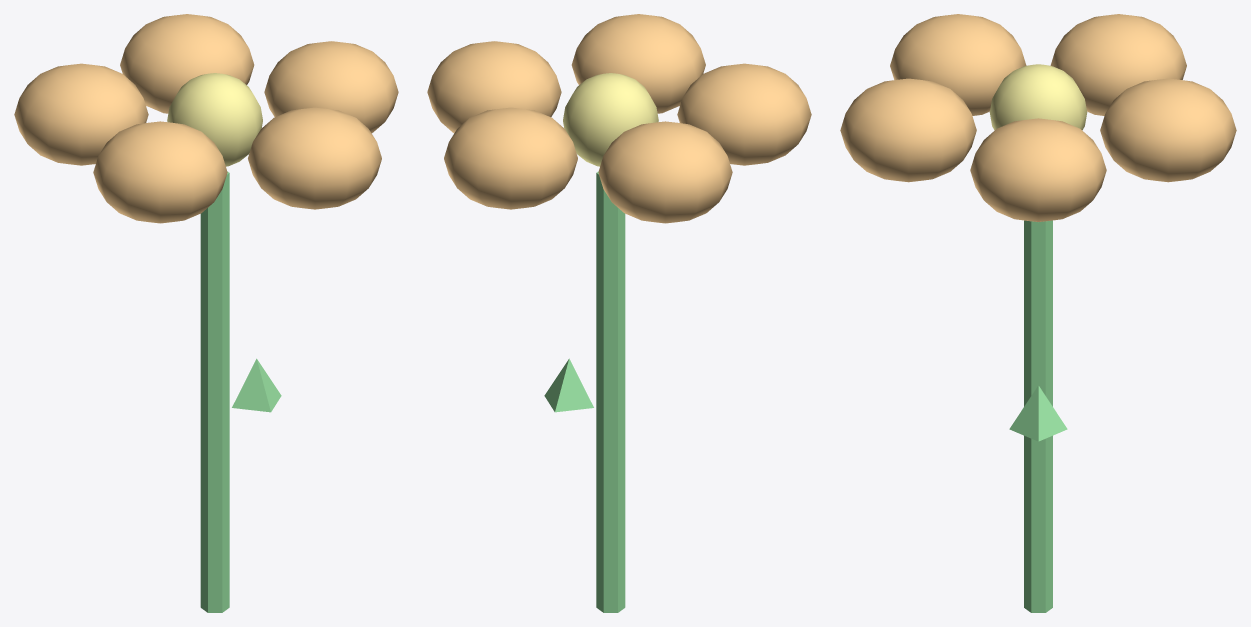
The model's file is flower_3.glb.
The picture shows the model from 3 angles, left to right: view 1: azimuth 30°, elevation 25°; view 2: azimuth 150°, elevation 25°; view 3: azimuth 270°, elevation 25°; orthographic projection.
Visible parts, largest first — view 1: stem, petal_4, petal_3, petal_2, petal_0, petal_1, center, leaf; view 2: stem, petal_1, petal_2, petal_3, petal_0, petal_4, center, leaf; view 3: petal_1, petal_4, petal_0, stem, petal_3, petal_2, center, leaf.
Part boxes in pixels (x1,y1,x2,y2): stem: (200, 171, 229, 612); petal_4: (248, 107, 381, 209); petal_3: (93, 121, 227, 223); petal_2: (14, 63, 148, 165); petal_0: (264, 41, 398, 133); petal_1: (120, 14, 254, 113); center: (167, 73, 262, 166); leaf: (232, 358, 281, 412); stem: (596, 171, 625, 612); petal_1: (444, 107, 577, 209); petal_2: (598, 121, 732, 223); petal_3: (677, 63, 811, 165); petal_0: (427, 41, 561, 132); petal_4: (571, 14, 705, 113); center: (563, 73, 658, 166); leaf: (544, 358, 593, 412); petal_1: (1100, 78, 1236, 182); petal_4: (840, 78, 976, 182); petal_0: (970, 118, 1106, 221); stem: (1024, 220, 1052, 612); petal_3: (890, 14, 1026, 115); petal_2: (1050, 14, 1186, 115); center: (989, 64, 1087, 130); leaf: (1009, 385, 1067, 441).
Size of the model in its own units: 0.3933 by 0.61 by 0.4063.
